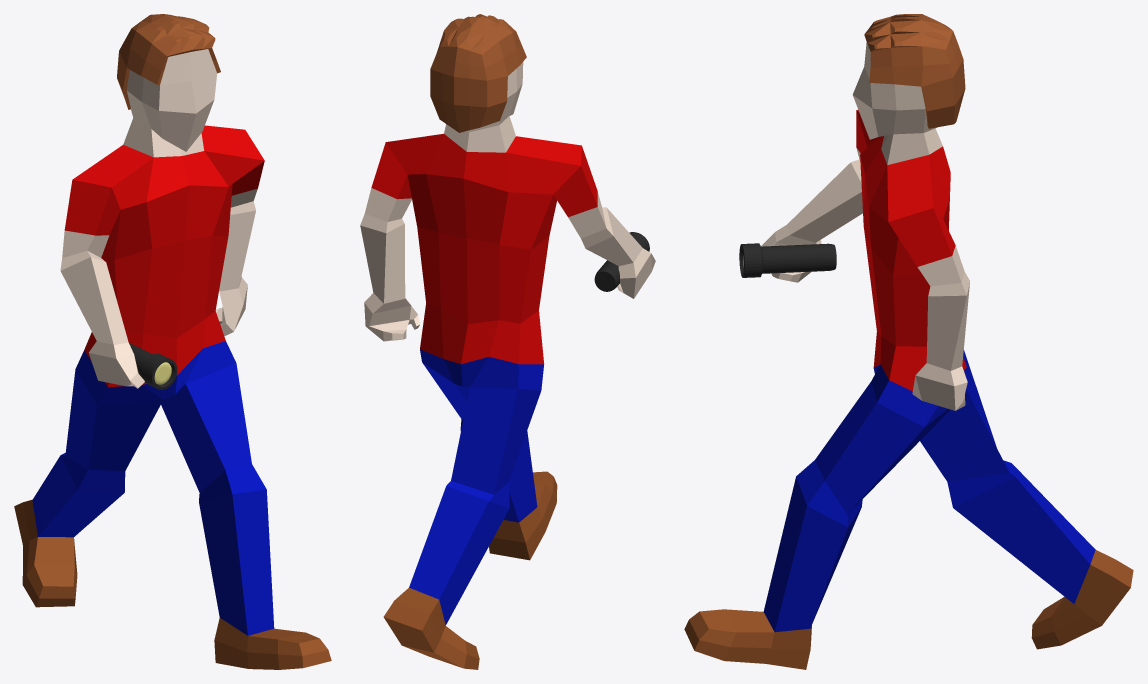
File: Human_walking_10.fbx
3 renders of one model, left to right at view 1: azimuth 30°, elevation 25°; view 2: azimuth 150°, elevation 25°; view 3: azimuth 270°, elevation 25°, orthographic. The views are drawn at different scales.
Parts seen in each view (by area): view 1: Person.001, Cylinder.001; view 2: Person.001, Cylinder.001; view 3: Person.001, Cylinder.001.
Part boxes in pixels (left/top/right/bottom): Person.001: left=14, top=14, right=331, bottom=669; Cylinder.001: left=129, top=343, right=177, bottom=389; Person.001: left=360, top=14, right=655, bottom=669; Cylinder.001: left=594, top=232, right=649, bottom=291; Person.001: left=684, top=14, right=1133, bottom=669; Cylinder.001: left=739, top=243, right=836, bottom=277.
Bounding box in the file's own units: 0.5904 × 1.56 × 0.9787.
